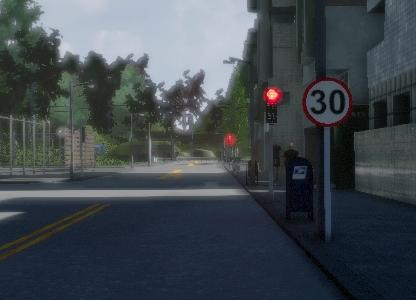Speed_30: (301, 75, 354, 130)
